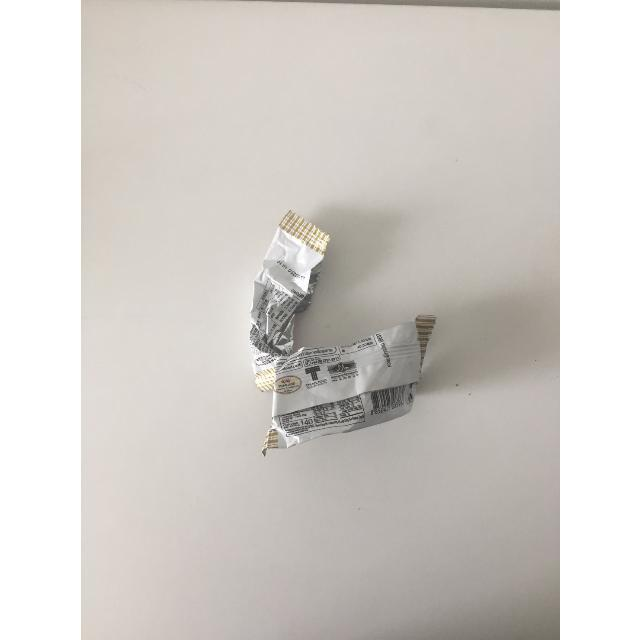Paquete de plastico: (265, 316, 435, 449)
